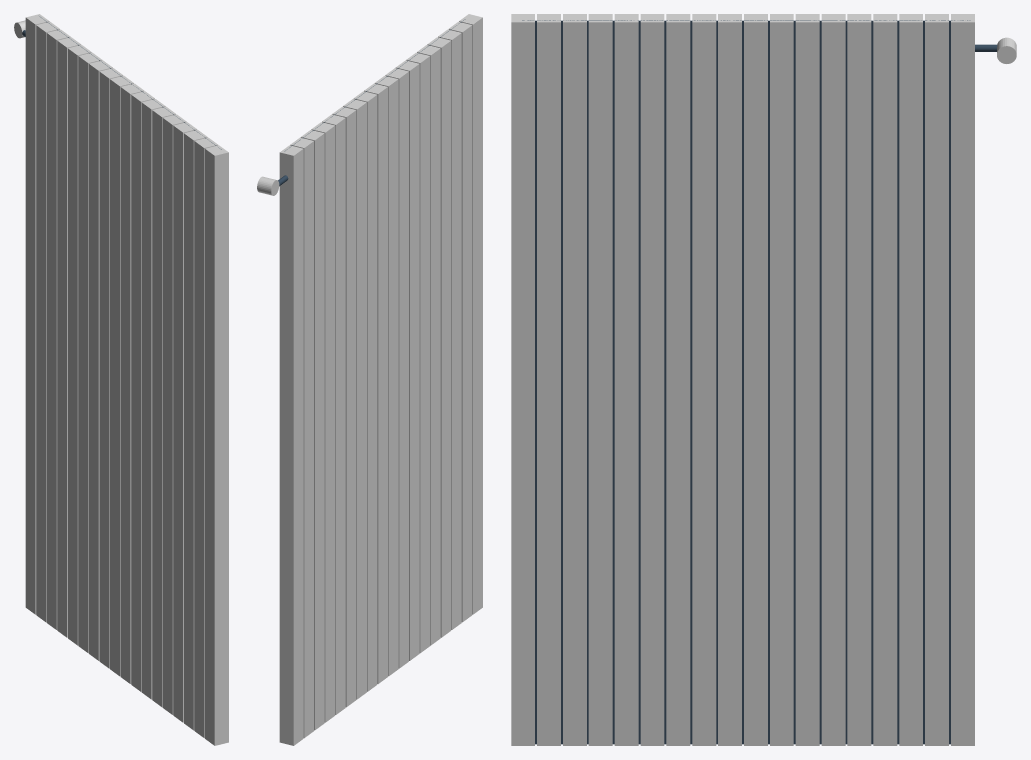
File: Heizung2.fbx
3 renders of one model, left to right at view 1: azimuth 30°, elevation 25°; view 2: azimuth 150°, elevation 25°; view 3: azimuth 270°, elevation 25°, orthographic. The views are drawn at different scales.
Visible parts, largest first — view 1: Cube; view 2: Cube; view 3: Cube.
Boxes of the visible parts, box(x1,y1,x2,y2) form: Cube: box(14, 14, 228, 745); Cube: box(257, 14, 482, 745); Cube: box(511, 14, 1016, 745).
Bounding box in the file's own units: 13.93 × 400 × 253.
